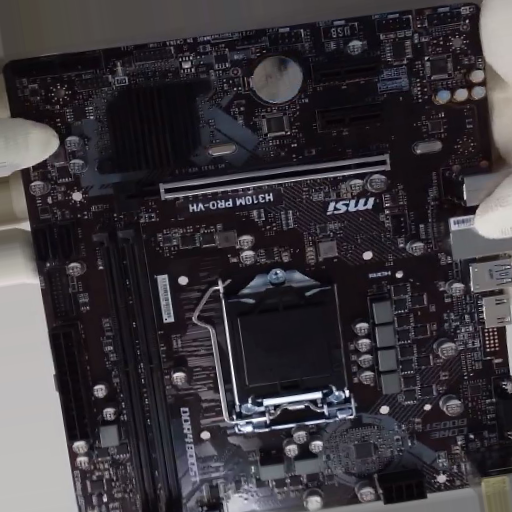CPU: (227, 268, 355, 436)
GPU: (114, 153, 392, 207)
MOTHERBOARD: (3, 3, 510, 512)
RAM: (92, 222, 181, 511)
